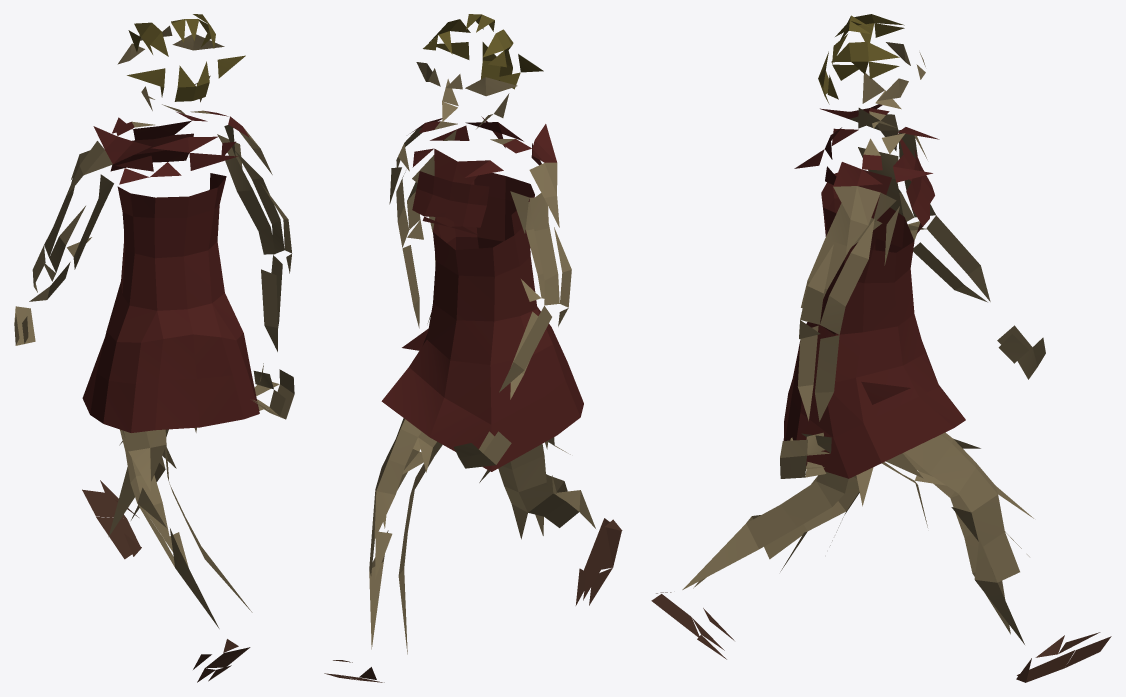
File: personfar_0_w3.fbx
3 renders of one model, left to right at view 1: azimuth 30°, elevation 25°; view 2: azimuth 150°, elevation 25°; view 3: azimuth 270°, elevation 25°, orthographic. The views are drawn at different scales.
Parts seen in each view (by area): view 1: Female; view 2: Female; view 3: Female.
Part boxes in pixels (left/top/right/bottom): Female: left=14, top=14, right=294, bottom=682; Female: left=324, top=14, right=622, bottom=682; Female: left=651, top=14, right=1111, bottom=682.
Bounding box in the file's own units: 0.3257 × 0.9689 × 0.6147.
